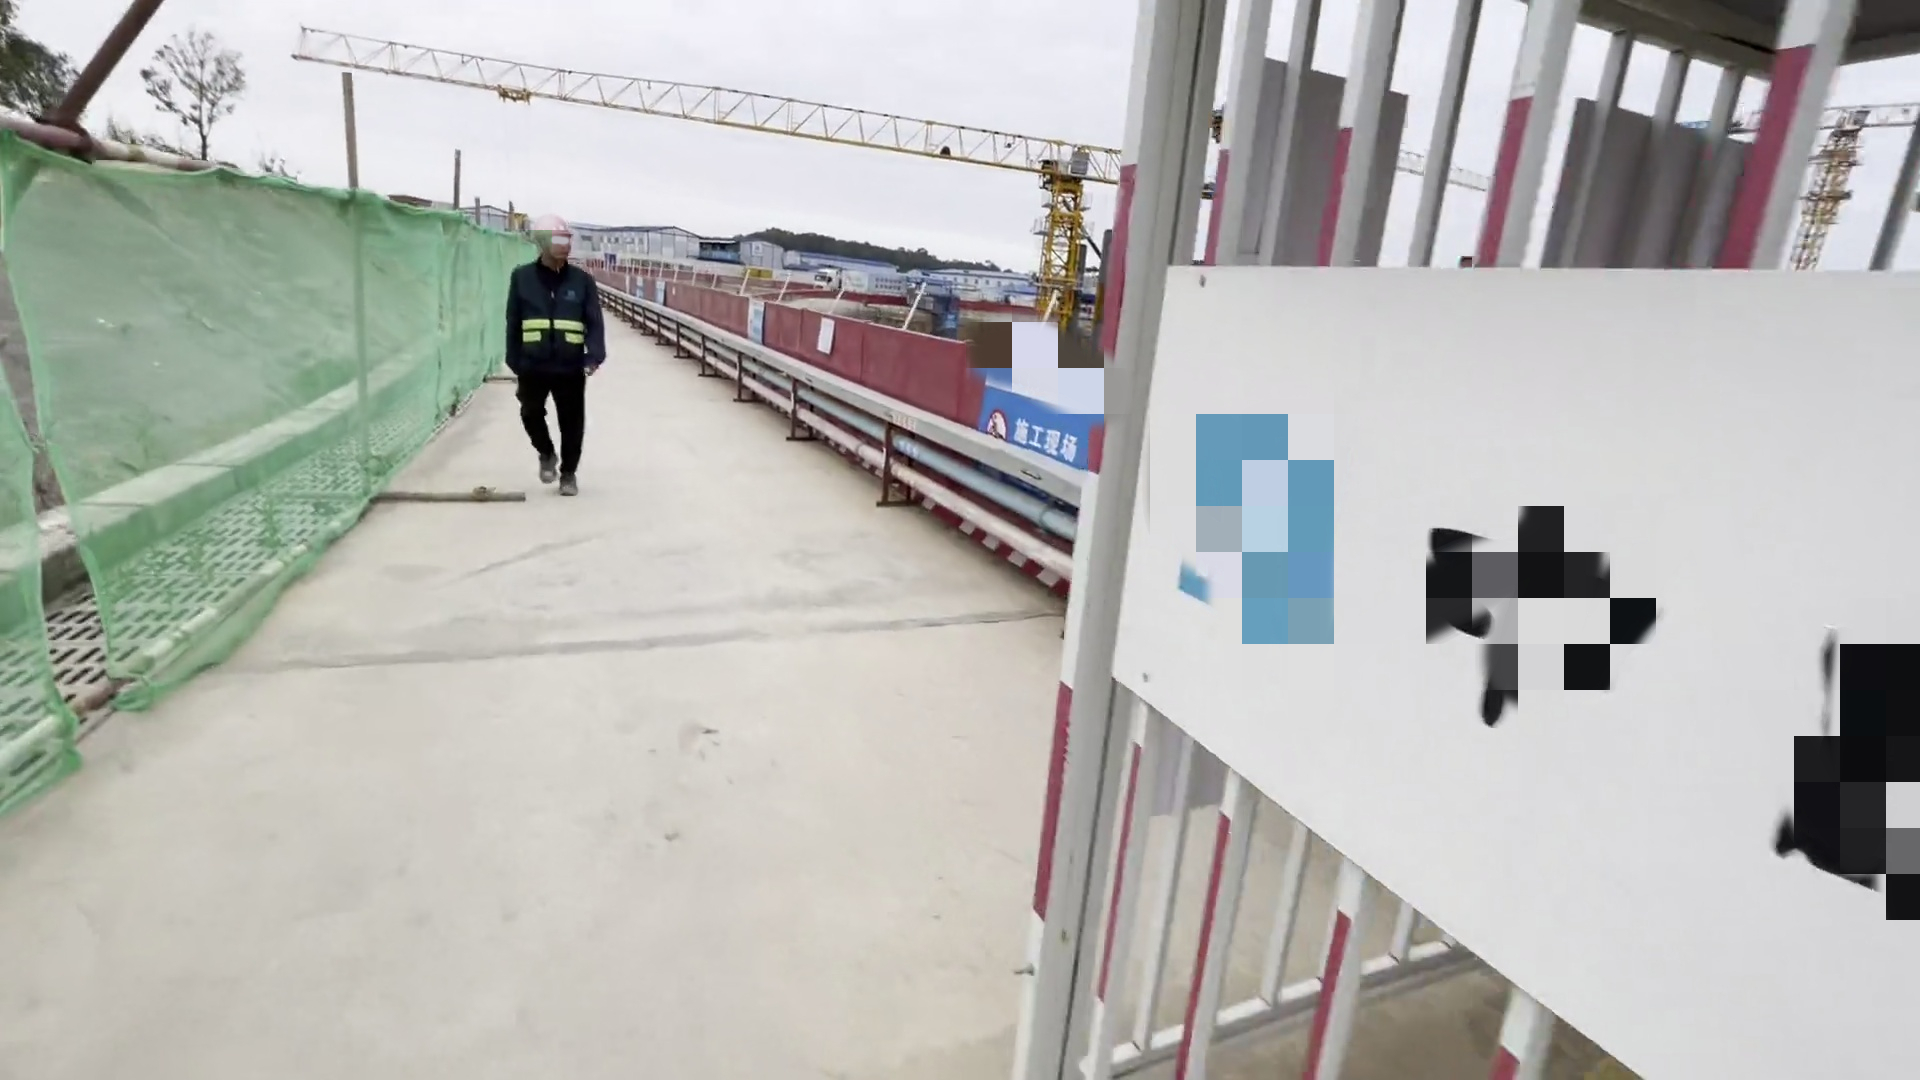fence: (605, 241, 1101, 473)
helmet: (523, 213, 575, 250)
person: (501, 203, 616, 520)
slogan: (969, 349, 1098, 465), (743, 294, 766, 344), (649, 274, 669, 307)
vest: (514, 261, 595, 386)
